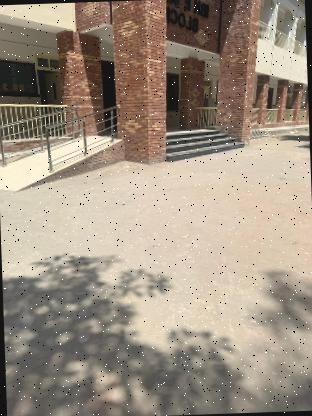door: (159, 126, 248, 164)
